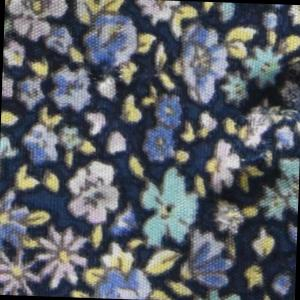Damage: (233, 61, 300, 152), (67, 58, 169, 94), (206, 196, 253, 241)
